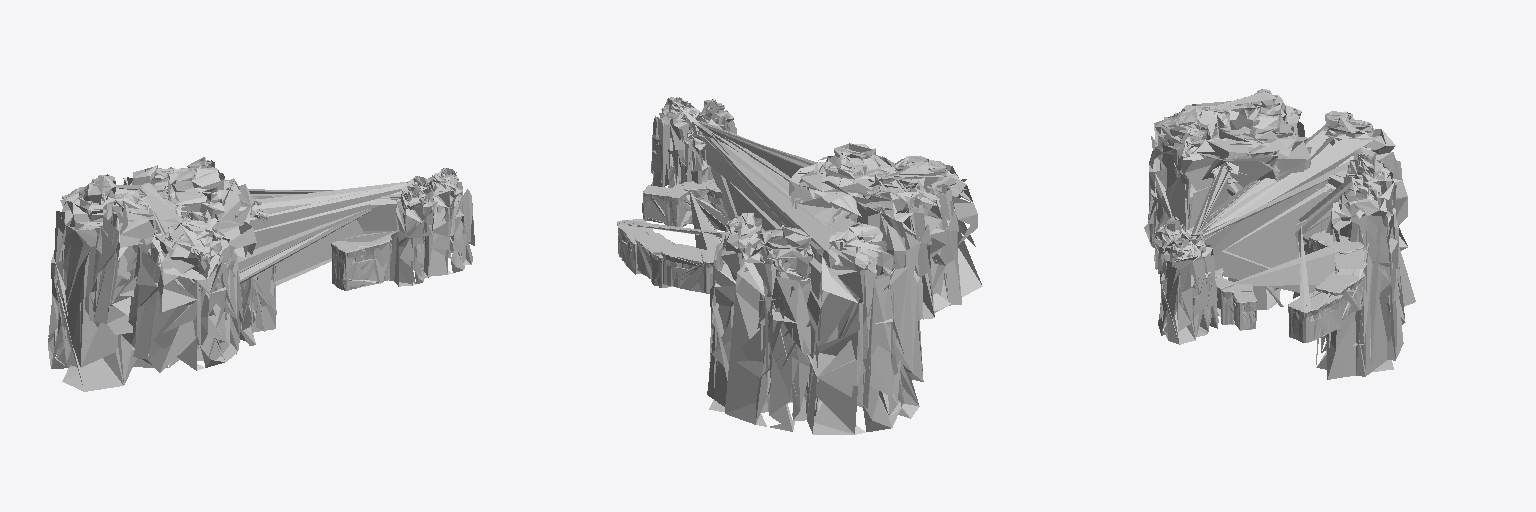
The model's file is cellSlimulationQuarry_DonutHole_Proxy-sharedassets3.assets-669.obj.
3 renders of one model, left to right at view 1: azimuth 30°, elevation 25°; view 2: azimuth 150°, elevation 25°; view 3: azimuth 270°, elevation 25°, orthographic.
Parts seen in each view (by area): view 1: cellSlimulationQuarry_DonutHole_Proxy_0, cellSlimulationQuarry_DonutHole_Proxy_2; view 2: cellSlimulationQuarry_DonutHole_Proxy_0, cellSlimulationQuarry_DonutHole_Proxy_4, cellSlimulationQuarry_DonutHole_Proxy_1, cellSlimulationQuarry_DonutHole_Proxy_2; view 3: cellSlimulationQuarry_DonutHole_Proxy_0, cellSlimulationQuarry_DonutHole_Proxy_4, cellSlimulationQuarry_DonutHole_Proxy_2, cellSlimulationQuarry_DonutHole_Proxy_1.
Boxes of the visible parts, x1=… form: cellSlimulationQuarry_DonutHole_Proxy_0: x1=48, y1=157, x2=474, y2=391; cellSlimulationQuarry_DonutHole_Proxy_2: x1=164, y1=218, x2=390, y2=287; cellSlimulationQuarry_DonutHole_Proxy_0: x1=618, y1=97, x2=982, y2=434; cellSlimulationQuarry_DonutHole_Proxy_4: x1=617, y1=180, x2=715, y2=293; cellSlimulationQuarry_DonutHole_Proxy_1: x1=642, y1=179, x2=729, y2=284; cellSlimulationQuarry_DonutHole_Proxy_2: x1=617, y1=156, x2=945, y2=290; cellSlimulationQuarry_DonutHole_Proxy_0: x1=1144, y1=89, x2=1415, y2=379; cellSlimulationQuarry_DonutHole_Proxy_4: x1=1215, y1=230, x2=1366, y2=342; cellSlimulationQuarry_DonutHole_Proxy_2: x1=1155, y1=104, x2=1365, y2=340; cellSlimulationQuarry_DonutHole_Proxy_1: x1=1215, y1=239, x2=1362, y2=330.
Size of the model in its own units: 227 by 146 by 159.